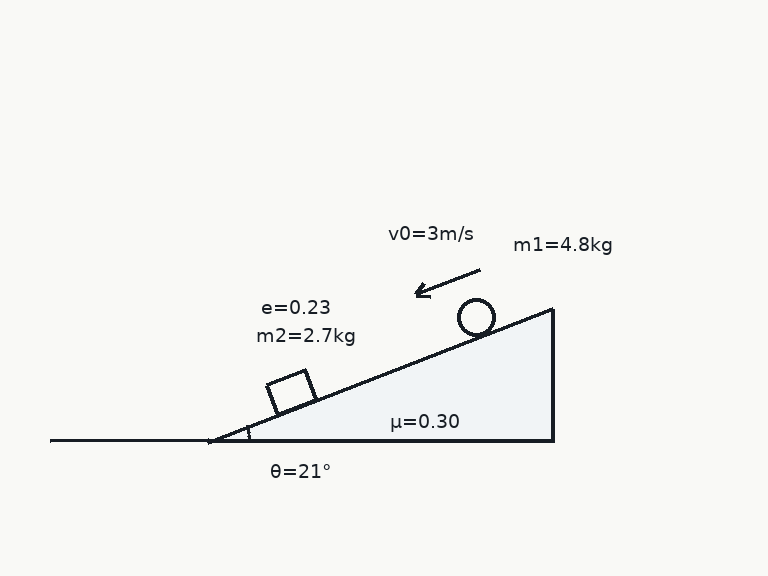ball: (455, 296, 497, 338)
block: (264, 368, 318, 416)
ramp: (207, 306, 555, 442)
